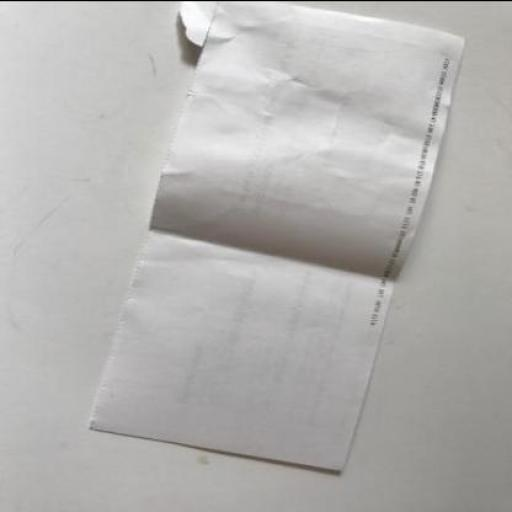paper: (86, 1, 465, 468)
